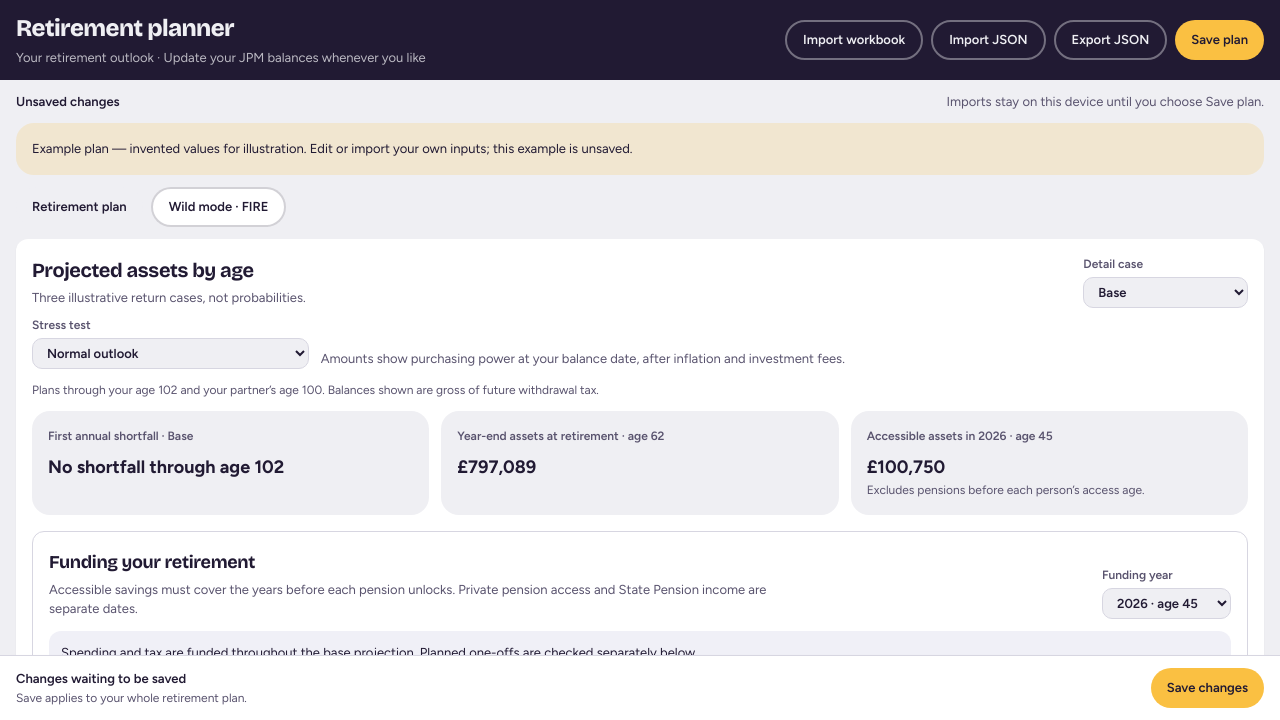
Test: inflation assumptions › saves explicit payment bases and shows the return after fees and inflation
Earlier steps of the test are not shown.
Click the button "Save plan" at (1220, 40), box [1175,20,1264,60]
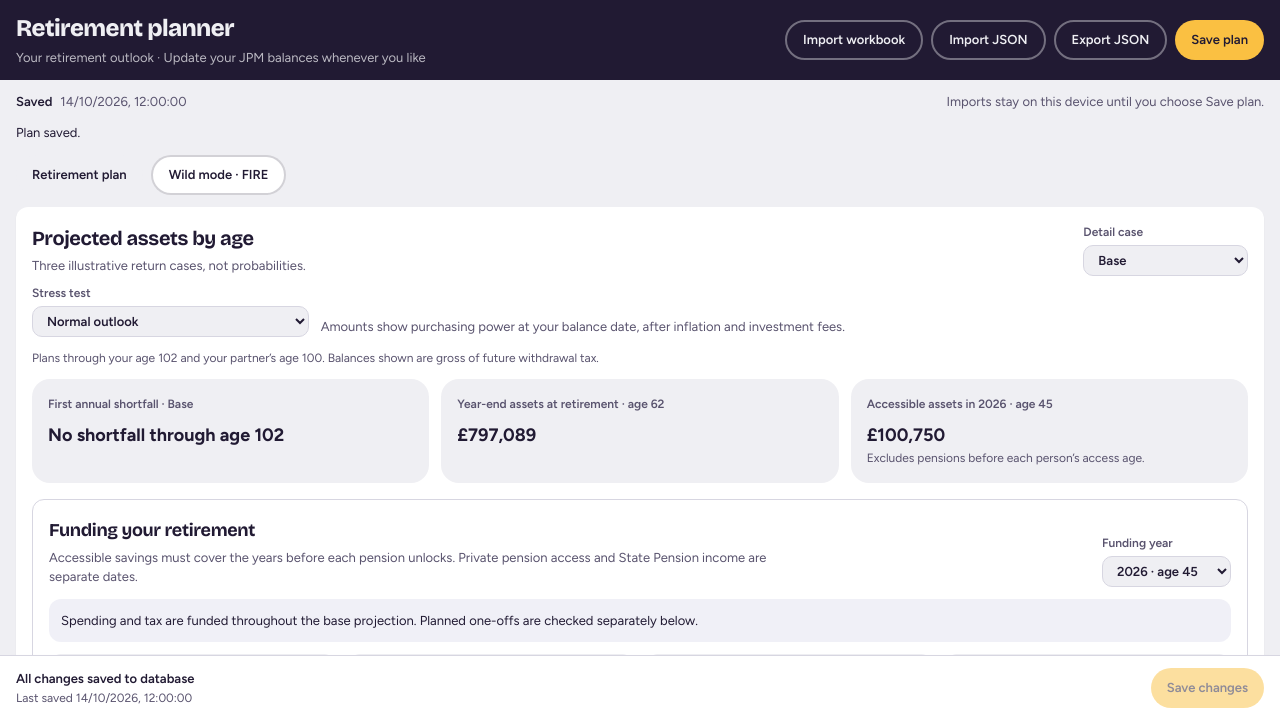
Check: the text "Plan saved." is shown, box [16,125,80,140]
